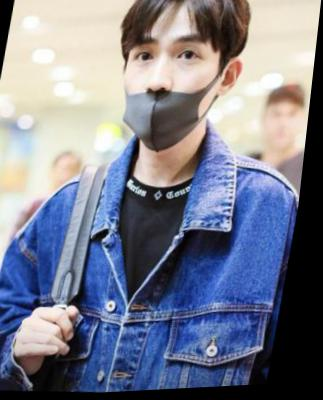NONE: (263, 107, 306, 152)
WRONG: (114, 20, 233, 153)
